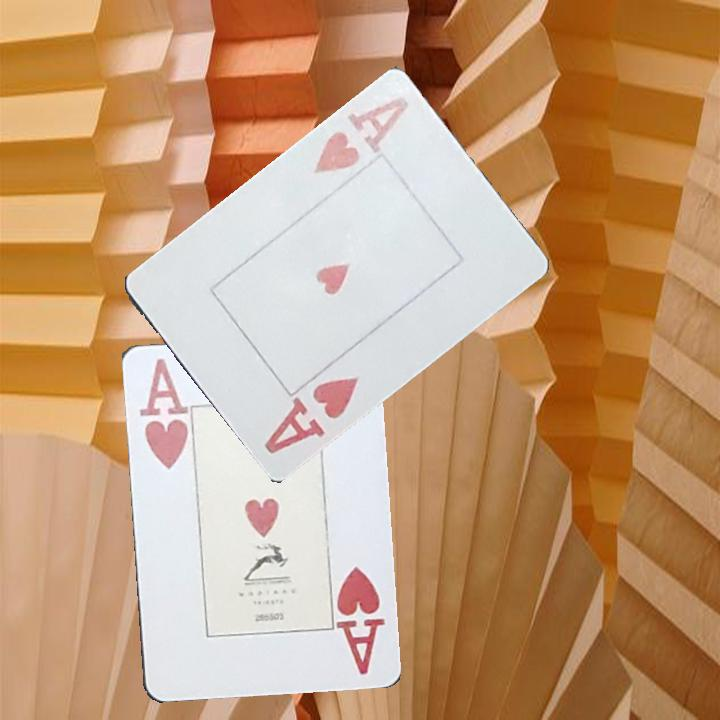Ah: (310, 92, 412, 179), (260, 374, 362, 458), (333, 562, 388, 678), (135, 354, 189, 472)
